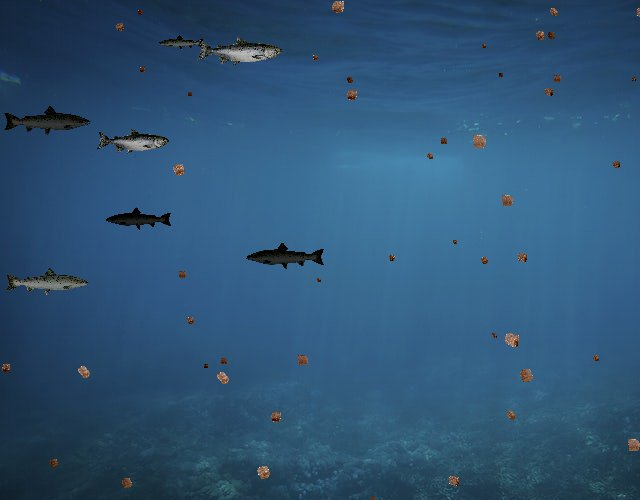Fish: (2, 104, 92, 136), (4, 266, 90, 297), (196, 36, 282, 67), (245, 241, 326, 271), (97, 128, 170, 155), (106, 207, 174, 231), (158, 34, 205, 51)
Pellet: (465, 127, 493, 155), (495, 188, 519, 212), (501, 405, 521, 425), (530, 25, 550, 45), (309, 51, 322, 64), (450, 236, 460, 246)
